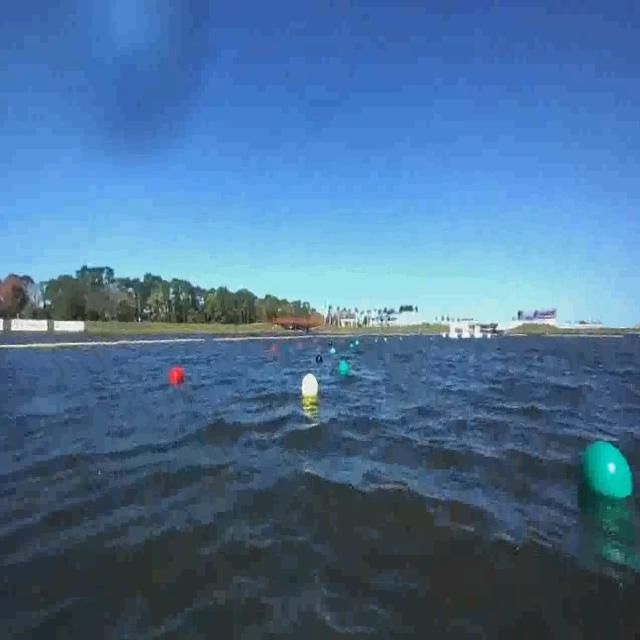black-buoy: (316, 352, 323, 366)
green-buoy: (576, 438, 633, 503), (340, 358, 350, 377)
red-buoy: (170, 366, 184, 384)
yellow-buoy: (302, 372, 320, 401)
